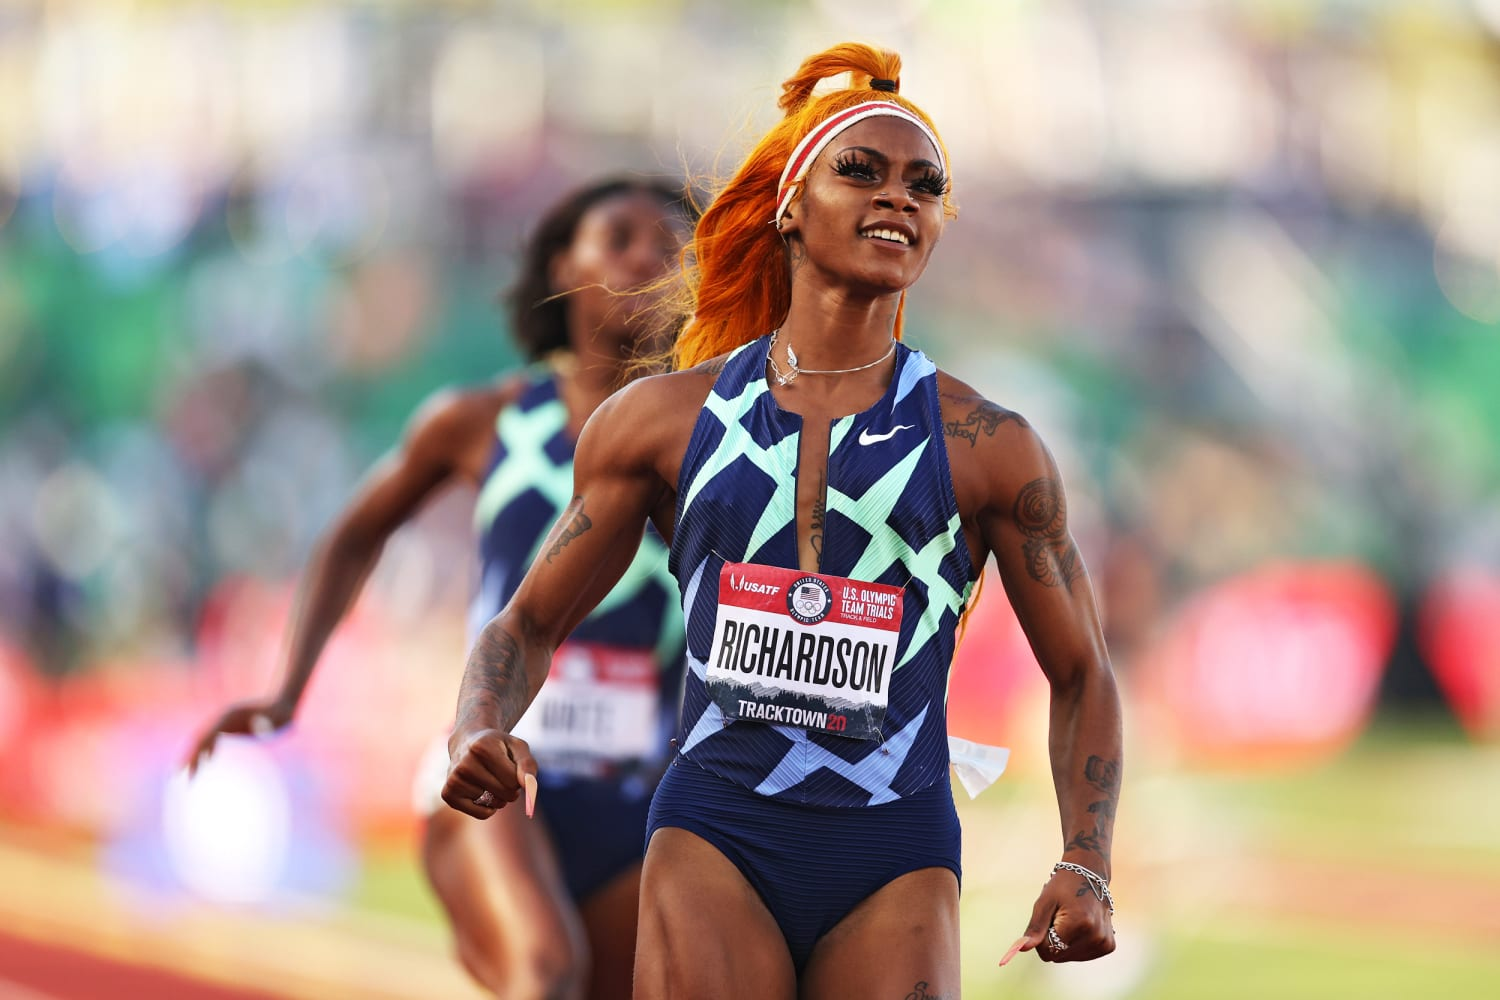runner: (435, 74, 1144, 1000)
